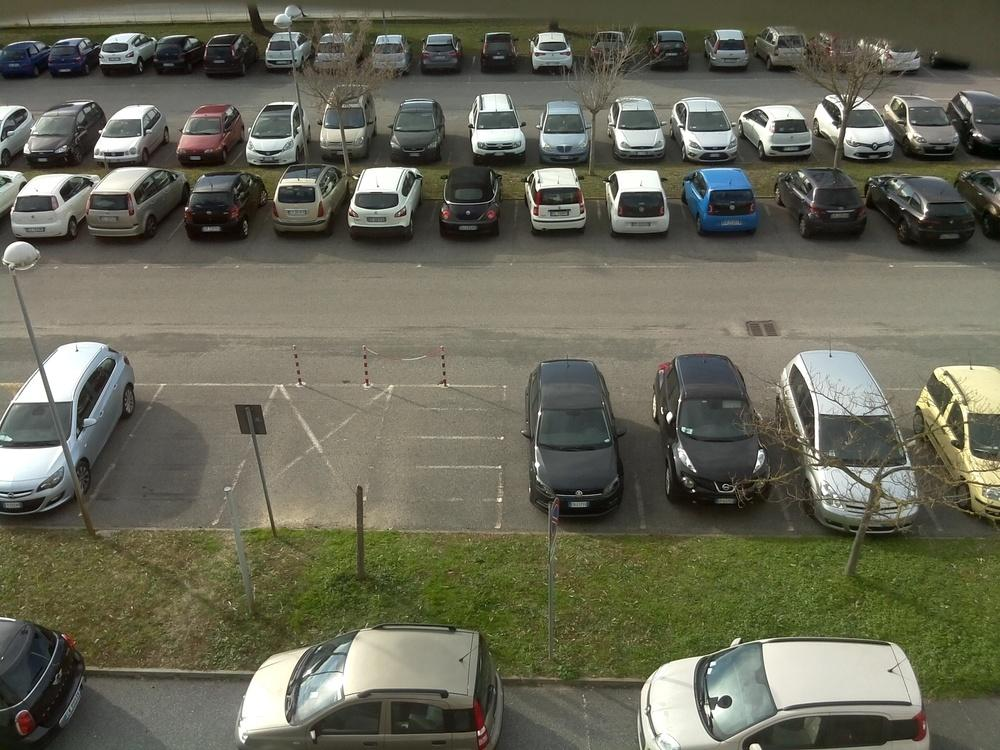empty: (642, 636, 950, 750), (231, 626, 511, 750), (5, 339, 144, 517), (650, 350, 793, 507), (523, 353, 639, 515), (780, 358, 912, 461), (4, 620, 87, 742), (869, 171, 987, 253), (927, 369, 997, 505), (780, 169, 877, 240), (82, 171, 179, 240), (340, 163, 424, 240), (683, 168, 770, 239), (177, 174, 264, 244), (7, 173, 92, 244), (266, 164, 345, 236), (431, 169, 510, 240), (601, 173, 683, 241), (92, 104, 173, 169), (671, 94, 748, 160), (889, 96, 970, 158), (826, 99, 902, 163), (522, 168, 594, 235), (22, 106, 101, 167), (170, 106, 247, 168), (464, 94, 531, 162), (379, 101, 451, 164), (533, 100, 602, 164), (237, 106, 307, 166), (744, 110, 823, 163), (603, 101, 671, 161), (318, 93, 380, 158), (954, 96, 1000, 154), (700, 28, 759, 73), (201, 32, 258, 78), (758, 28, 815, 73), (812, 22, 860, 74), (966, 173, 1000, 243), (257, 32, 311, 76), (312, 31, 366, 75), (529, 33, 584, 76), (642, 29, 698, 71), (367, 35, 419, 80), (581, 30, 635, 73), (865, 40, 931, 75), (415, 35, 471, 76), (150, 38, 208, 77), (94, 37, 150, 76), (40, 38, 94, 78), (0, 40, 49, 82), (475, 37, 524, 75), (2, 110, 31, 168)
